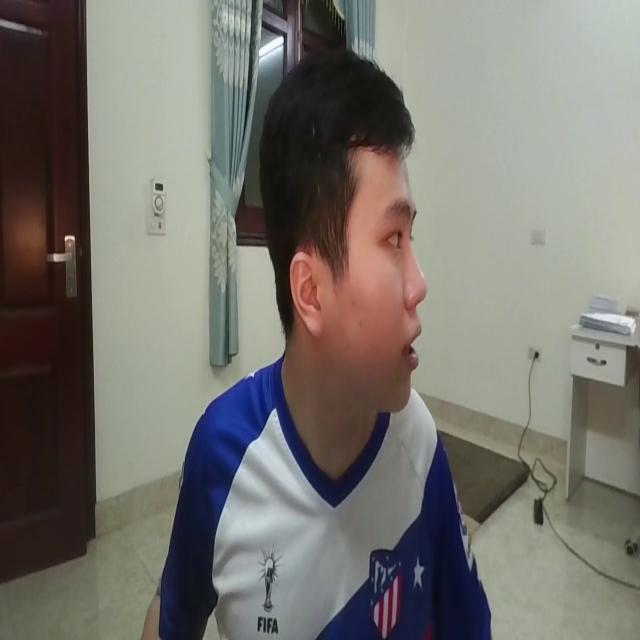student: (111, 31, 497, 640)
